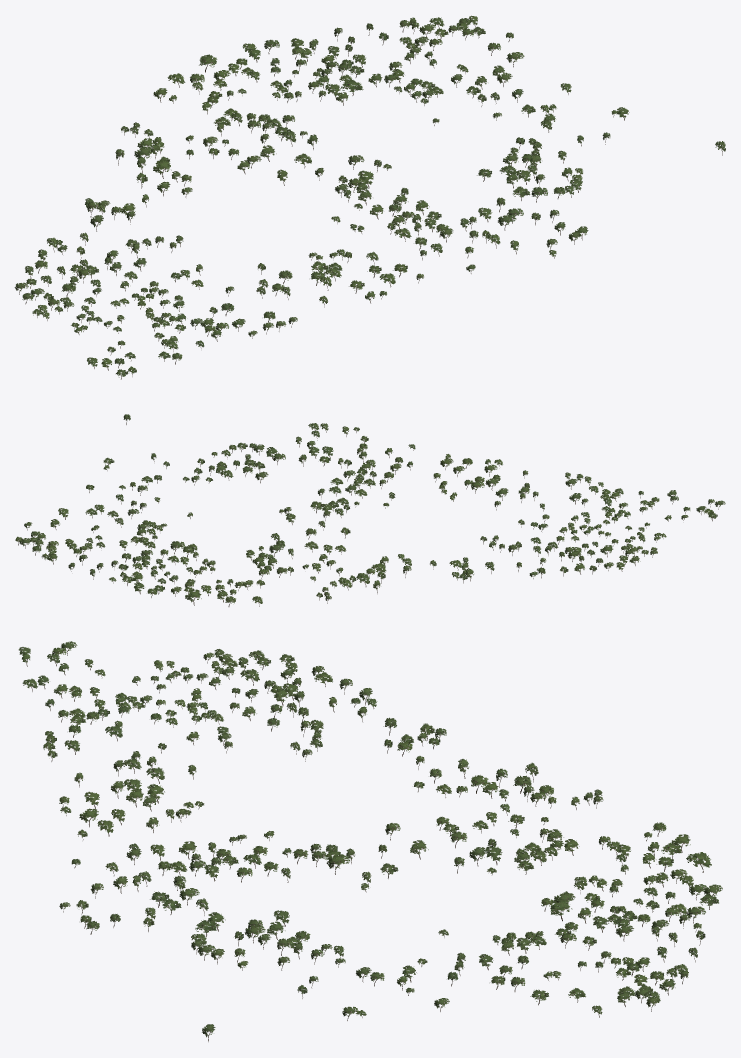
3 views of the same model, one above another, from view 1: azimuth 30°, elevation 25°; view 2: azimuth 150°, elevation 25°; view 3: azimuth 270°, elevation 25° (orthographic). The views are drawn at different scales.
Visible parts, largest first — view 1: tree_small_02 2 0 crown, tree_small_02 0 2 crown, tree_small_02 2 2 crown, tree_small_02 0 1 crown, tree_small_02 2 1 crown, tree_small_02 1 0 crown, tree_small_02 3 0 crown, tree_small_02 1 2 crown, tree_small_02 1 1 crown, tree_small_02 3 1 crown; view 2: tree_small_02 2 0 crown, tree_small_02 0 2 crown, tree_small_02 2 2 crown, tree_small_02 0 1 crown, tree_small_02 2 1 crown, tree_small_02 1 0 crown, tree_small_02 1 2 crown, tree_small_02 3 0 crown, tree_small_02 1 1 crown, tree_small_02 3 1 crown; view 3: tree_small_02 2 0 crown, tree_small_02 0 2 crown, tree_small_02 0 1 crown, tree_small_02 2 2 crown, tree_small_02 2 1 crown, tree_small_02 1 2 crown, tree_small_02 1 0 crown, tree_small_02 3 0 crown, tree_small_02 1 1 crown, tree_small_02 3 1 crown.
Boxes of the visible parts, x1,y1,x2,y2 form: tree_small_02 2 0 crown: (190, 23, 443, 142); tree_small_02 0 2 crown: (32, 270, 273, 377); tree_small_02 2 2 crown: (391, 179, 588, 271); tree_small_02 0 1 crown: (14, 198, 163, 306); tree_small_02 2 1 crown: (294, 118, 572, 219); tree_small_02 1 0 crown: (115, 73, 269, 174); tree_small_02 3 0 crown: (399, 15, 524, 94); tree_small_02 1 2 crown: (196, 223, 426, 327); tree_small_02 1 1 crown: (120, 145, 364, 248); tree_small_02 3 1 crown: (477, 83, 629, 174); tree_small_02 2 0 crown: (68, 520, 285, 602); tree_small_02 0 2 crown: (530, 476, 725, 554); tree_small_02 2 2 crown: (237, 423, 415, 486); tree_small_02 0 1 crown: (452, 535, 640, 579); tree_small_02 2 1 crown: (187, 449, 367, 540); tree_small_02 1 0 crown: (225, 548, 386, 603); tree_small_02 1 2 crown: (379, 454, 583, 524); tree_small_02 3 0 crown: (15, 504, 139, 561); tree_small_02 1 1 crown: (304, 492, 498, 573); tree_small_02 3 1 crown: (86, 452, 217, 509); tree_small_02 2 0 crown: (469, 842, 722, 958); tree_small_02 0 2 crown: (18, 641, 232, 743); tree_small_02 0 1 crown: (221, 650, 446, 747); tree_small_02 2 2 crown: (59, 841, 230, 955); tree_small_02 2 1 crown: (221, 840, 464, 956); tree_small_02 1 2 crown: (43, 740, 232, 853); tree_small_02 1 0 crown: (471, 762, 690, 853); tree_small_02 3 0 crown: (479, 951, 688, 1014); tree_small_02 1 1 crown: (229, 739, 468, 855); tree_small_02 3 1 crown: (237, 949, 465, 1016).
Size of the model in its own units: 601 by 14 by 459.
2 materials, 2 textured.
